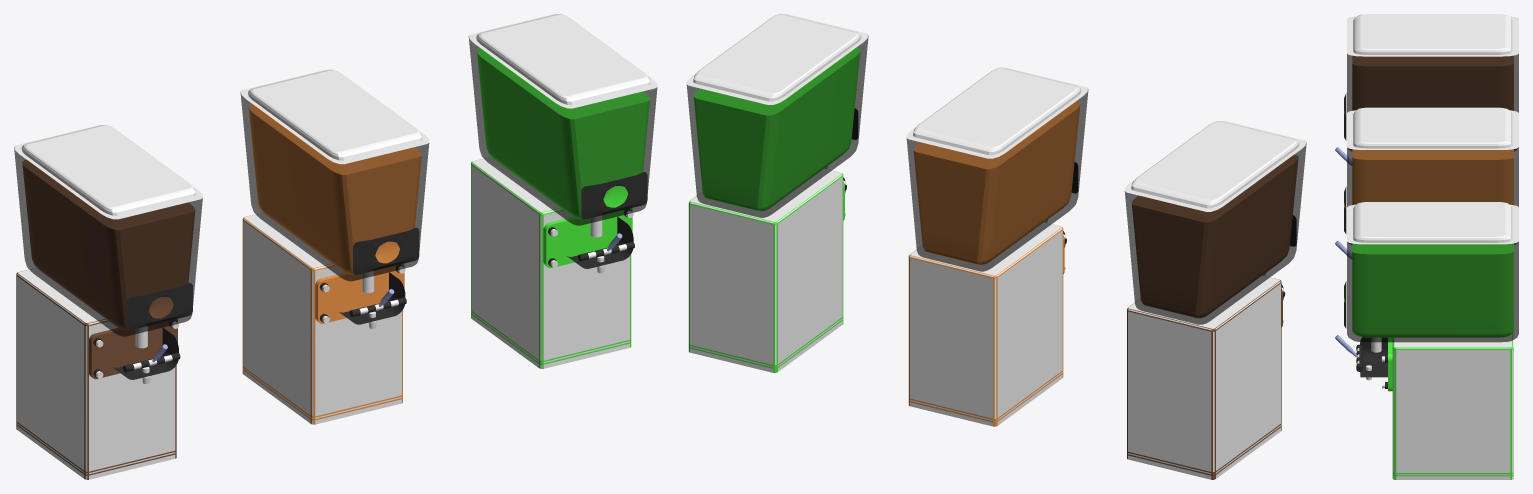
The model's file is SauceMachines.fbx.
The picture shows the model from 3 angles, left to right: view 1: azimuth 30°, elevation 25°; view 2: azimuth 150°, elevation 25°; view 3: azimuth 270°, elevation 25°; orthographic projection. The views are drawn at different scales.
Parts seen in each view (by area): view 1: body-caramel.001, body-chocolate.002, body-pistachio.001, glass.006, glass.007, glass.008, pistachio.001, chocolate.002, caramel.001; view 2: body-caramel.001, body-pistachio.001, body-chocolate.002, glass.006, glass.007, glass.008, caramel.001, chocolate.002, pistachio.001; view 3: body-pistachio.001, glass.008, pistachio.001, glass.007, glass.006, caramel.001, chocolate.002, body-chocolate.002, body-caramel.001.
Boxes of the visible parts, left/top/right/bottom form: body-caramel.001: left=241, top=69, right=429, bottom=424; body-chocolate.002: left=14, top=125, right=203, bottom=479; body-pistachio.001: left=469, top=14, right=657, bottom=368; glass.006: left=14, top=147, right=202, bottom=336; glass.007: left=240, top=92, right=429, bottom=281; glass.008: left=468, top=36, right=657, bottom=225; pistachio.001: left=477, top=48, right=649, bottom=218; chocolate.002: left=22, top=159, right=195, bottom=329; caramel.001: left=248, top=104, right=421, bottom=274; body-caramel.001: left=906, top=67, right=1087, bottom=426; body-pistachio.001: left=686, top=14, right=868, bottom=372; body-chocolate.002: left=1124, top=121, right=1306, bottom=479; glass.006: left=1124, top=142, right=1306, bottom=324; glass.007: left=906, top=89, right=1088, bottom=271; glass.008: left=686, top=36, right=868, bottom=217; caramel.001: left=913, top=101, right=1080, bottom=264; chocolate.002: left=1132, top=154, right=1298, bottom=318; pistachio.001: left=693, top=47, right=860, bottom=211; body-pistachio.001: left=1344, top=202, right=1518, bottom=479; glass.008: left=1347, top=241, right=1518, bottom=342; pistachio.001: left=1352, top=243, right=1513, bottom=337; glass.007: left=1347, top=147, right=1518, bottom=244; glass.006: left=1347, top=54, right=1518, bottom=150; caramel.001: left=1352, top=149, right=1513, bottom=204; chocolate.002: left=1352, top=55, right=1513, bottom=110; body-chocolate.002: left=1344, top=14, right=1518, bottom=140; body-caramel.001: left=1344, top=107, right=1518, bottom=233.
Size of the model in its own units: 321 by 159 by 109.
